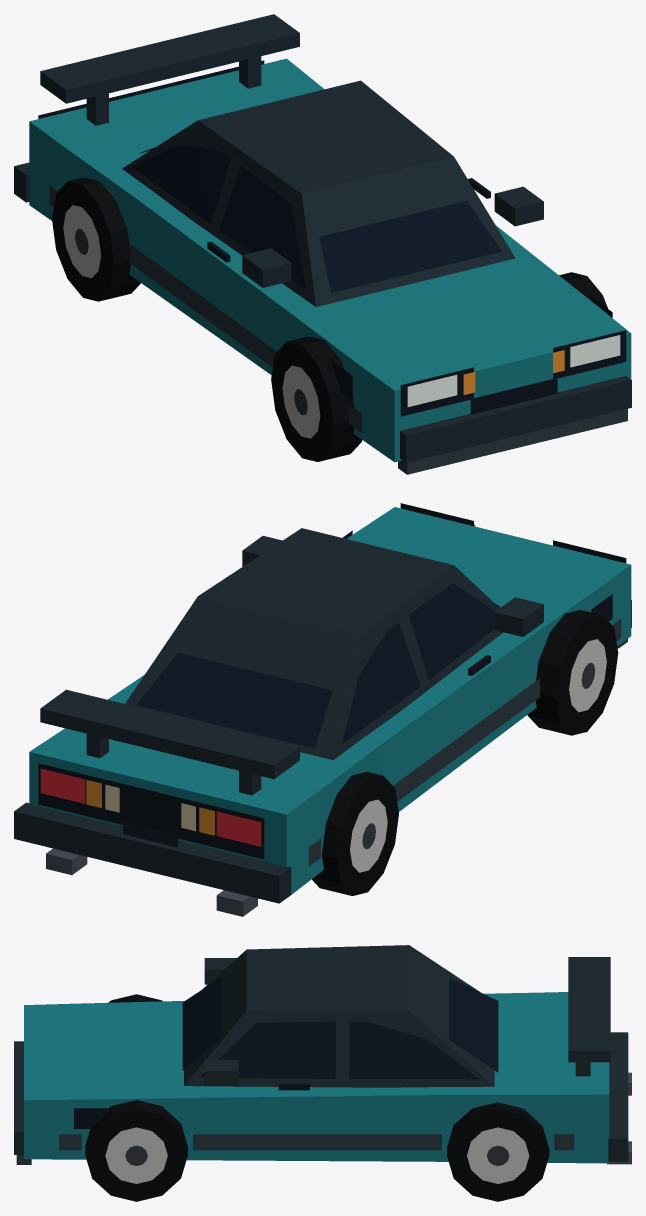
Rendered from aonami-gt-low-poly.obj.
The picture shows the model from 3 angles, top to bottom: view 1: azimuth 30°, elevation 25°; view 2: azimuth 150°, elevation 25°; view 3: azimuth 270°, elevation 25°; orthographic projection. The views are drawn at different scales.
Parts seen in each view (by area): view 1: aonami-body-shell, aonami-fastback-cabin, aonami-rear-wing, aonami-windshield, aonami-front-bumper, aonami-front-side-window--1, aonami-rear-side-window--1, aonami-rear-wheel--1-cap-a, aonami-front-wheel--1-cap-a, aonami-front-lip, aonami-center-side-skirt--1, aonami-front-wheel--1-tread (+15 smaller); view 2: aonami-body-shell, aonami-fastback-cabin, aonami-rear-window, aonami-rear-bumper, aonami-rear-wing, aonami-rear-garnish, aonami-front-side-window--1, aonami-rear-side-window--1, aonami-front-wheel--1-cap-a, aonami-rear-wheel--1-cap-a, aonami-front-wheel--1-tread, aonami-center-side-skirt--1 (+10 smaller); view 3: aonami-body-shell, aonami-fastback-cabin, aonami-front-side-window-1, aonami-rear-side-window-1, aonami-rear-wheel-1-cap-b, aonami-front-wheel-1-cap-b, aonami-rear-wing, aonami-center-side-skirt-1, aonami-rear-window, aonami-windshield, aonami-rear-bumper, aonami-rear-wheel-1-hub (+9 smaller).
Boxes of the visible parts, x1,y1,x2,y2 form: aonami-body-shell: (29,58,631,462); aonami-fastback-cabin: (122,80,515,306); aonami-rear-wing: (40,14,299,103); aonami-windshield: (319,201,501,292); aonami-front-bumper: (400,376,631,462); aonami-front-side-window--1: (219,166,305,289); aonami-rear-side-window--1: (132,145,230,223); aonami-rear-wheel--1-cap-a: (52,181,113,301); aonami-front-wheel--1-cap-a: (271,342,333,461); aonami-front-lip: (398,409,627,474); aonami-center-side-skirt--1: (130,244,276,367); aonami-front-wheel--1-tread: (287,336,362,461); aonami-body-shell: (29,507,631,897); aonami-fastback-cabin: (125,528,502,760); aonami-rear-window: (136,652,332,748); aonami-rear-bumper: (14,802,291,903); aonami-rear-wing: (40,689,299,779); aonami-rear-garnish: (38,763,264,859); aonami-front-side-window--1: (409,583,495,679); aonami-rear-side-window--1: (342,622,420,743); aonami-front-wheel--1-cap-a: (556,615,618,735); aonami-rear-wheel--1-cap-a: (337,776,398,895); aonami-front-wheel--1-tread: (527,610,601,735); aonami-center-side-skirt--1: (393,678,539,801); aonami-body-shell: (24,992,609,1163); aonami-fastback-cabin: (184,945,494,1087); aonami-front-side-window-1: (199,1021,335,1078); aonami-rear-side-window-1: (349,1021,478,1079); aonami-rear-wheel-1-cap-b: (447,1109,549,1201); aonami-front-wheel-1-cap-b: (85,1109,187,1201); aonami-rear-wing: (568,957,610,1062); aonami-center-side-skirt-1: (193,1134,441,1150); aonami-rear-window: (449,978,498,1072); aonami-windshield: (182,977,221,1070); aonami-rear-bumper: (608,1032,628,1161); aonami-rear-wheel-1-hub: (467,1127,529,1183).
Bounding box in the file's own units: 2.19 × 1.47 × 4.94.
